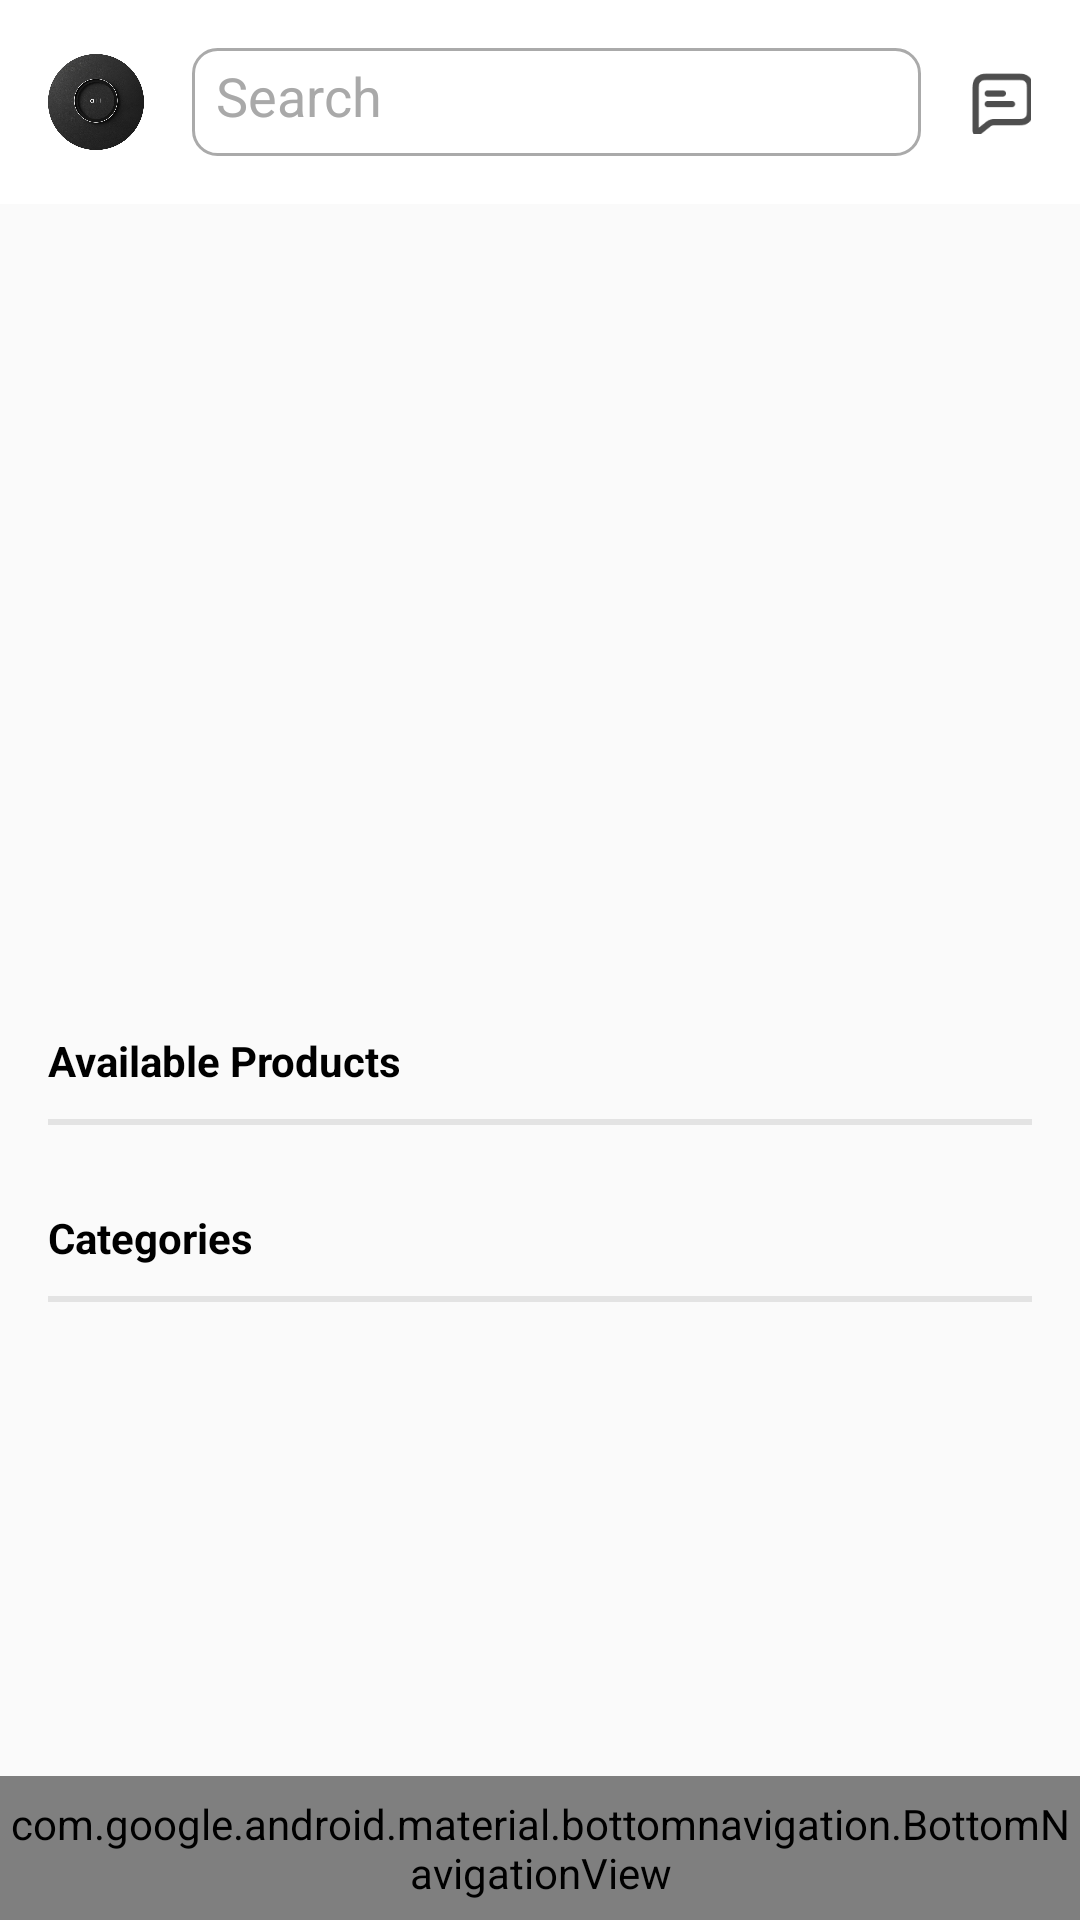

Icons on this 1080x1920 Android screen, each with the point to tap as [x,y]:
msgicon: [1001,103]
